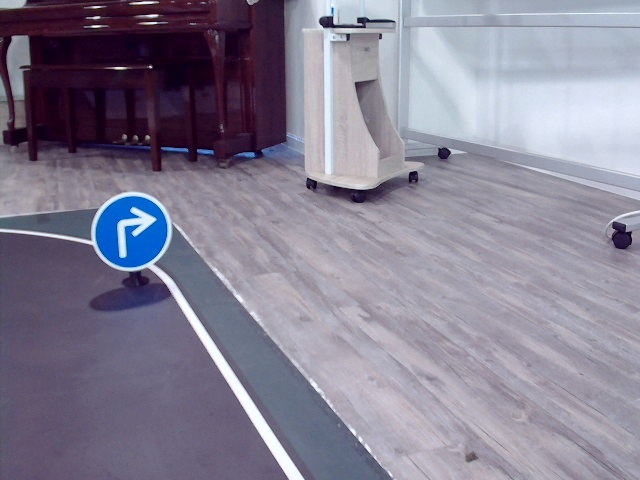turn_right: (114, 207, 156, 257)
